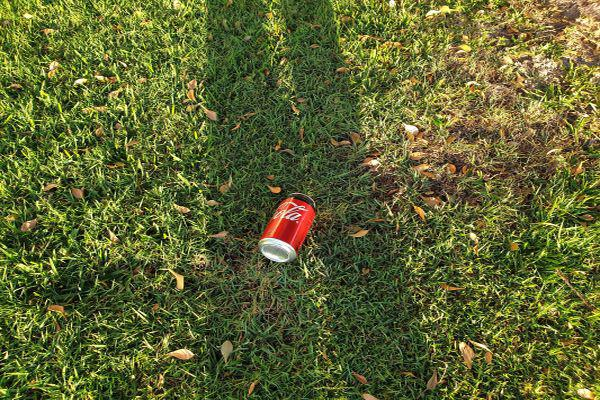Plastic Bottle: (258, 192, 319, 264)
